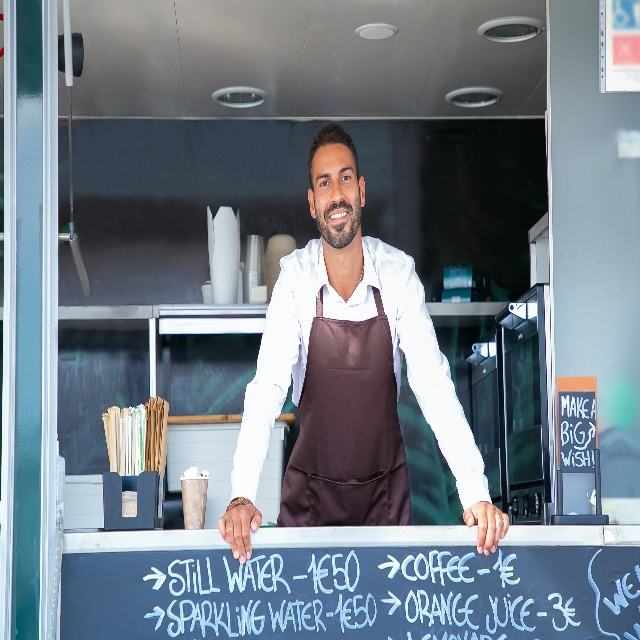Sin_guantes: (217, 503, 262, 564), (463, 500, 510, 556)
